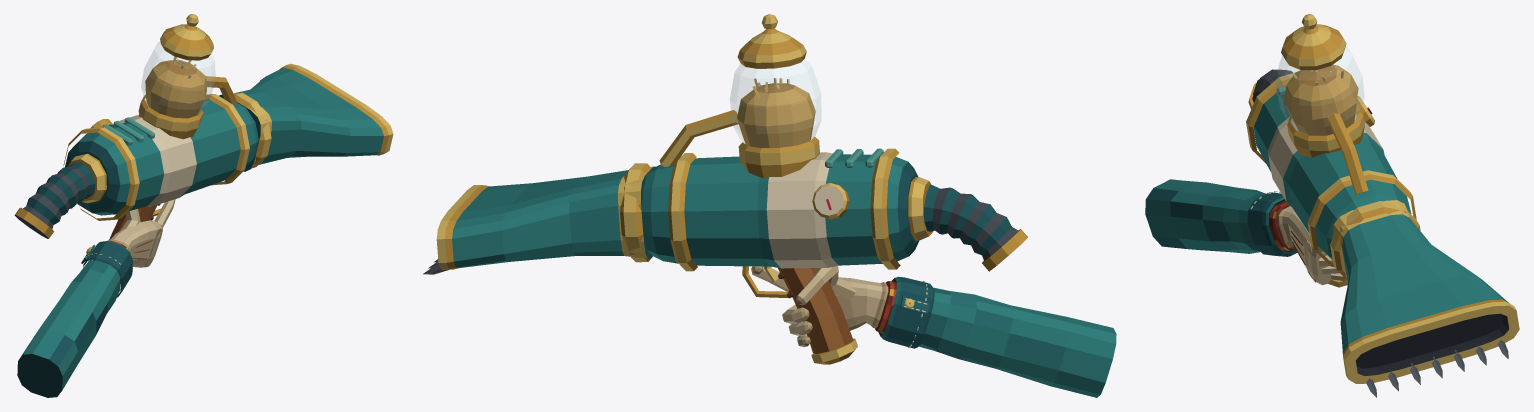
Rendered from fp_vacuum.glb.
The picture shows the model from 3 angles, left to right: view 1: azimuth 30°, elevation 25°; view 2: azimuth 150°, elevation 25°; view 3: azimuth 270°, elevation 25°; orthographic projection. The views are drawn at different scales.
Visible parts, largest first — view 1: tool, arm, hand; view 2: tool, arm, hand; view 3: tool, arm, hand.
Part boxes in pixels (left/top/right/bottom): tool: left=14, top=14, right=393, bottom=268; arm: left=17, top=240, right=132, bottom=397; hand: left=108, top=199, right=175, bottom=267; tool: left=423, top=14, right=1027, bottom=364; arm: left=875, top=276, right=1116, bottom=397; hand: left=751, top=266, right=888, bottom=347; tool: left=1246, top=14, right=1519, bottom=397; arm: left=1145, top=179, right=1297, bottom=256; hand: left=1277, top=206, right=1346, bottom=285.
Size of the model in its own units: 0.9293 by 0.583 by 0.5639.
